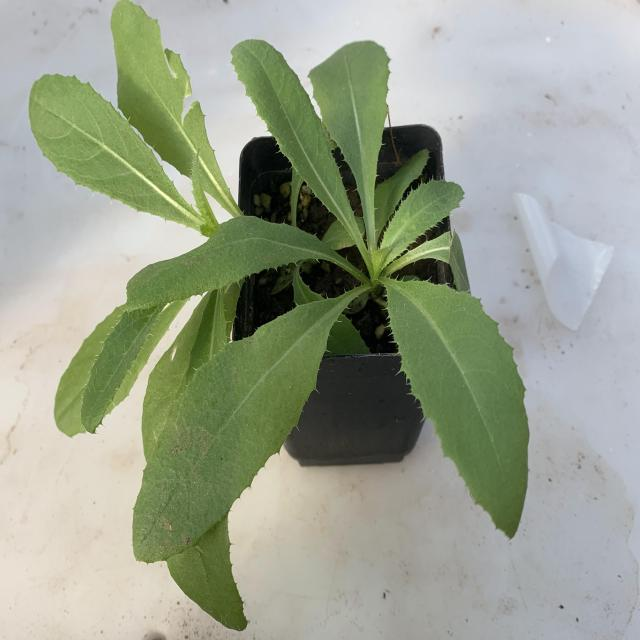field_thistle: (49, 22, 552, 540)
